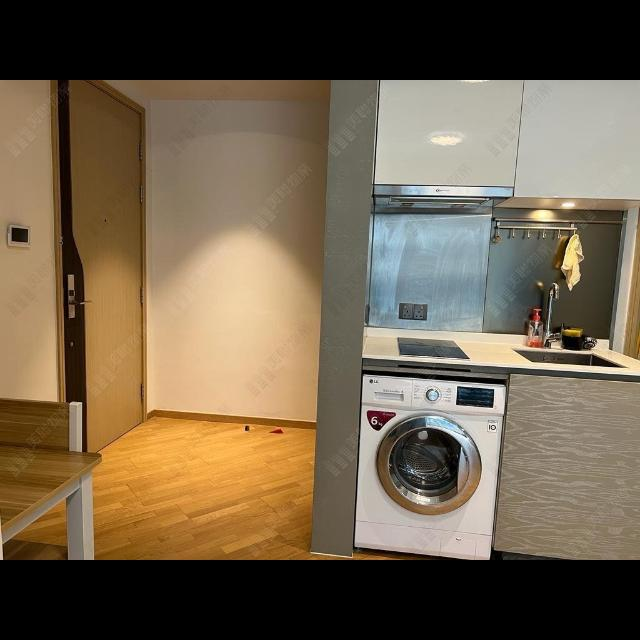Washing-Machine: (353, 375, 507, 559)
